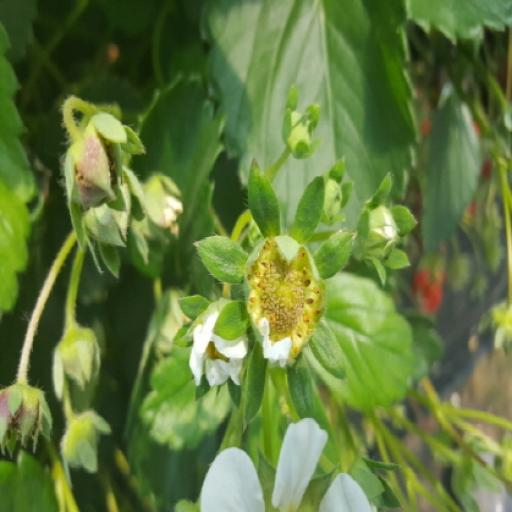Blossom Blight: (243, 240, 325, 357)
